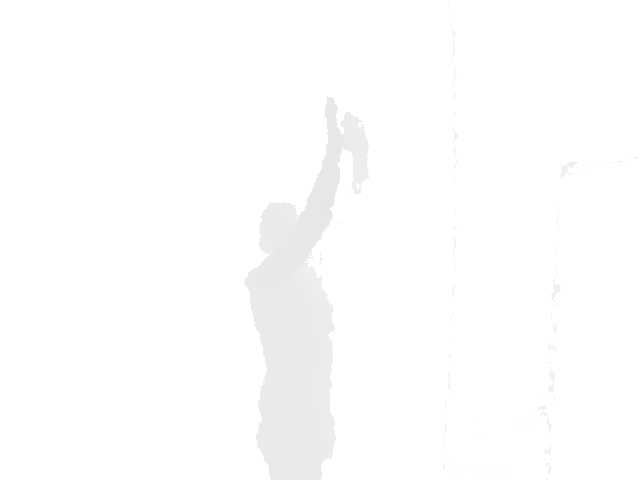hand: (338, 110, 369, 158), (323, 95, 344, 150)
head: (257, 201, 313, 253)
person: (242, 95, 372, 480)
